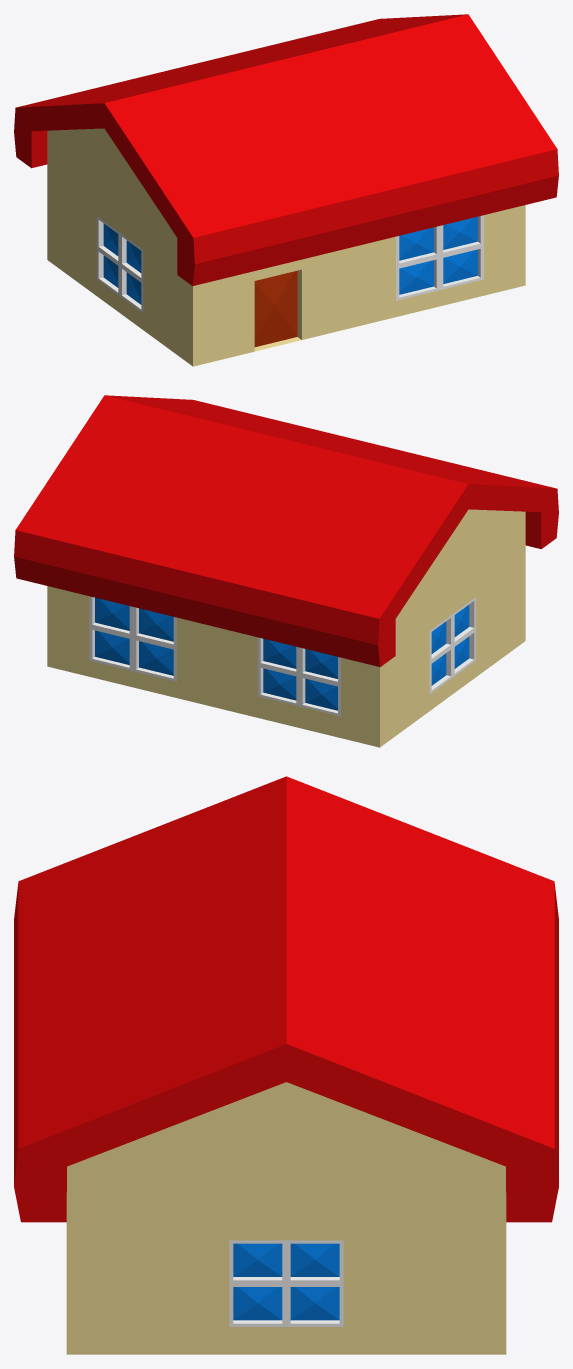
The model's file is house_2.fbx.
The picture shows the model from 3 angles, top to bottom: view 1: azimuth 30°, elevation 25°; view 2: azimuth 150°, elevation 25°; view 3: azimuth 270°, elevation 25°; orthographic projection. The views are drawn at different scales.
Parts seen in each view (by area): view 1: Cube; view 2: Cube; view 3: Cube.
Boxes of the visible parts, x1=… form: Cube: x1=14, y1=14, x2=558, y2=366; Cube: x1=14, y1=395, x2=558, y2=747; Cube: x1=14, y1=776, x2=558, y2=1354.
Size of the model in its own units: 232 by 130 by 200.
